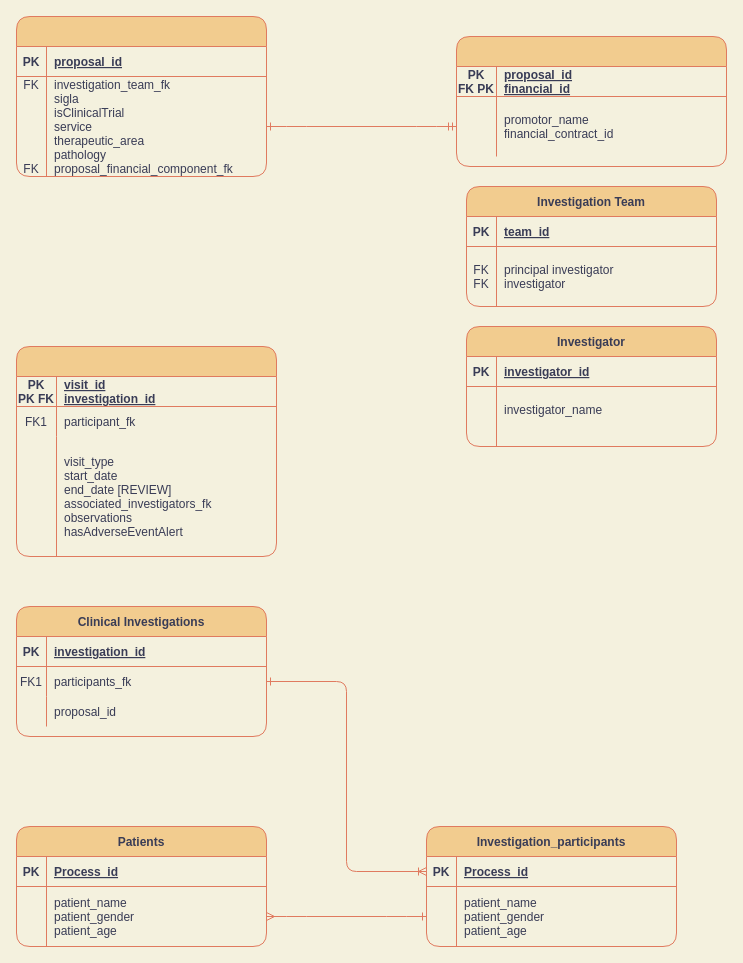
Some shapes in this 743 by 963 pixel diagram are drawn without their labels. Each missing label, with the box of its shape:
Clinical Visits: (16, 346, 276, 556)
Clinival Proposals: (16, 16, 266, 176)
Proposal Financial component: (456, 36, 726, 166)
